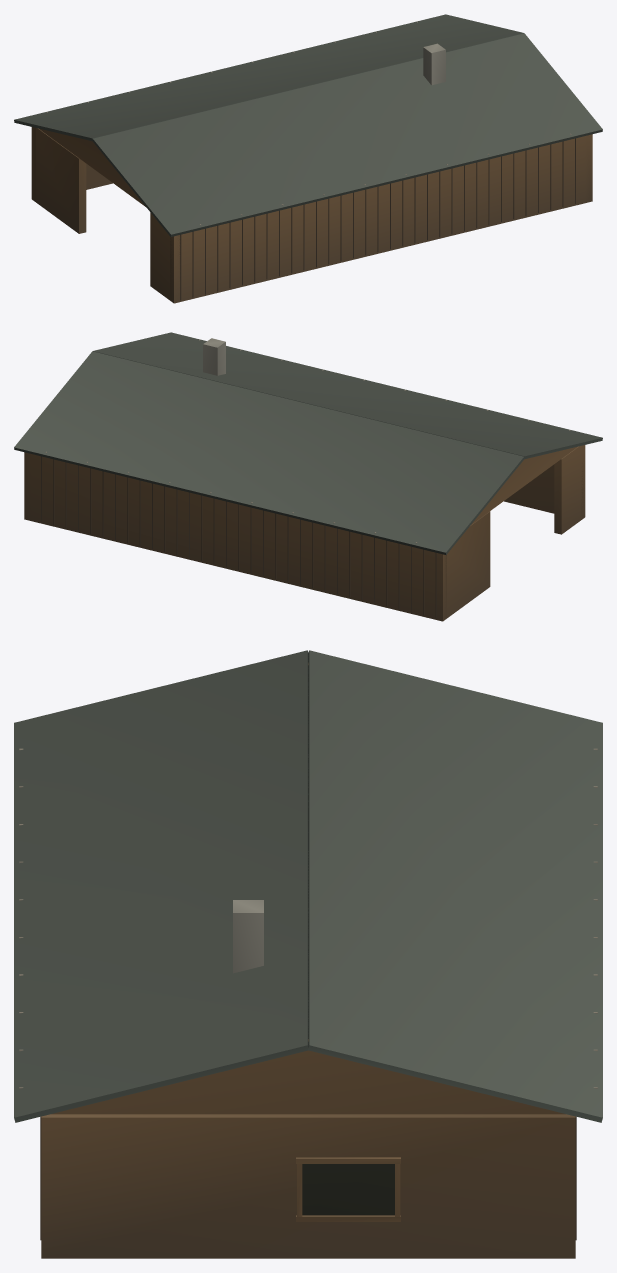
File: m01_rail_shed_intact_lod0.glb
The picture shows the model from 3 angles, top to bottom: view 1: azimuth 30°, elevation 25°; view 2: azimuth 150°, elevation 25°; view 3: azimuth 270°, elevation 25°; orthographic projection. The views are drawn at different scales.
Visible parts, largest first — view 1: rail_shed; view 2: rail_shed; view 3: rail_shed.
Boxes of the visible parts, box(x1,y1,x2,y2) form: rail_shed: box(14, 14, 602, 303); rail_shed: box(14, 332, 602, 621); rail_shed: box(14, 650, 602, 1258).
Bounding box in the file's own units: 21.04 × 6.4 × 13.23.
